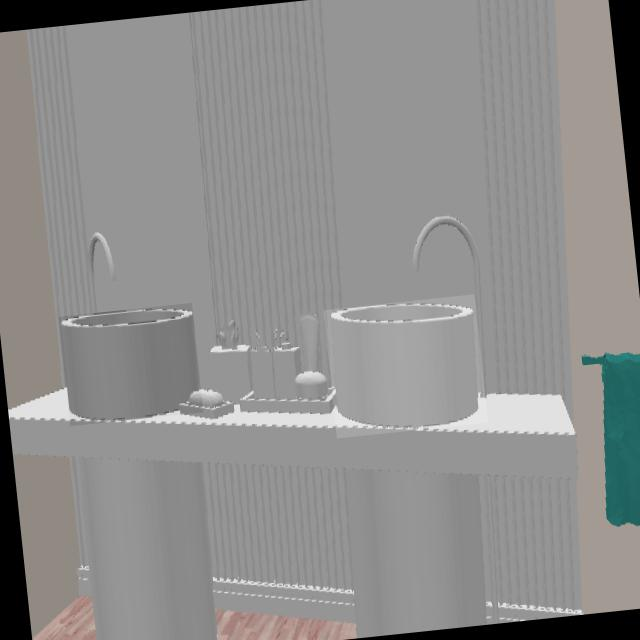washbasin: (324, 301, 480, 431), (61, 307, 196, 420)
